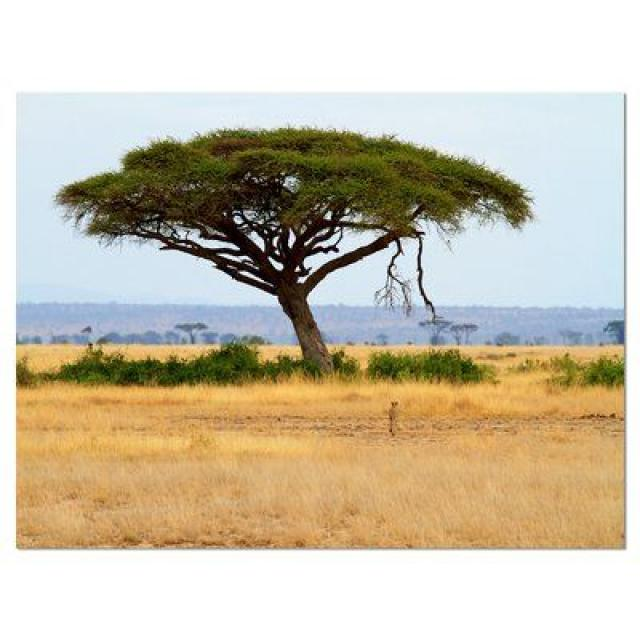Acacia: (64, 134, 522, 367)
